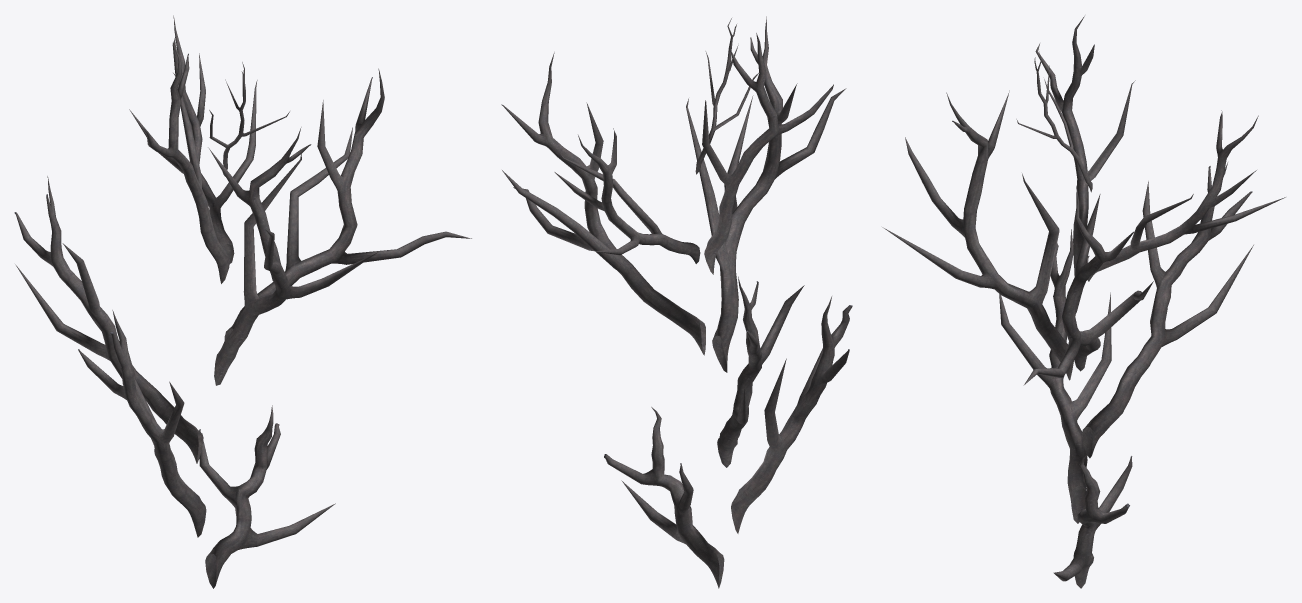
The picture shows the model from 3 angles, left to right: view 1: azimuth 30°, elevation 25°; view 2: azimuth 150°, elevation 25°; view 3: azimuth 270°, elevation 25°; orthographic projection. The views are drawn at different scales.
Visible parts, largest first — view 1: SM_FH_Ash_Tree_Bare_Canopy_02_LOD0; view 2: SM_FH_Ash_Tree_Bare_Canopy_02_LOD0; view 3: SM_FH_Ash_Tree_Bare_Canopy_02_LOD0.
Boxes of the visible parts, <box> form: SM_FH_Ash_Tree_Bare_Canopy_02_LOD0: <box>14,15,471,588</box>; SM_FH_Ash_Tree_Bare_Canopy_02_LOD0: <box>501,16,852,588</box>; SM_FH_Ash_Tree_Bare_Canopy_02_LOD0: <box>882,16,1285,588</box>.
Size of the model in its own units: 7.61 by 11.15 by 7.39.
1 material, 1 textured.
